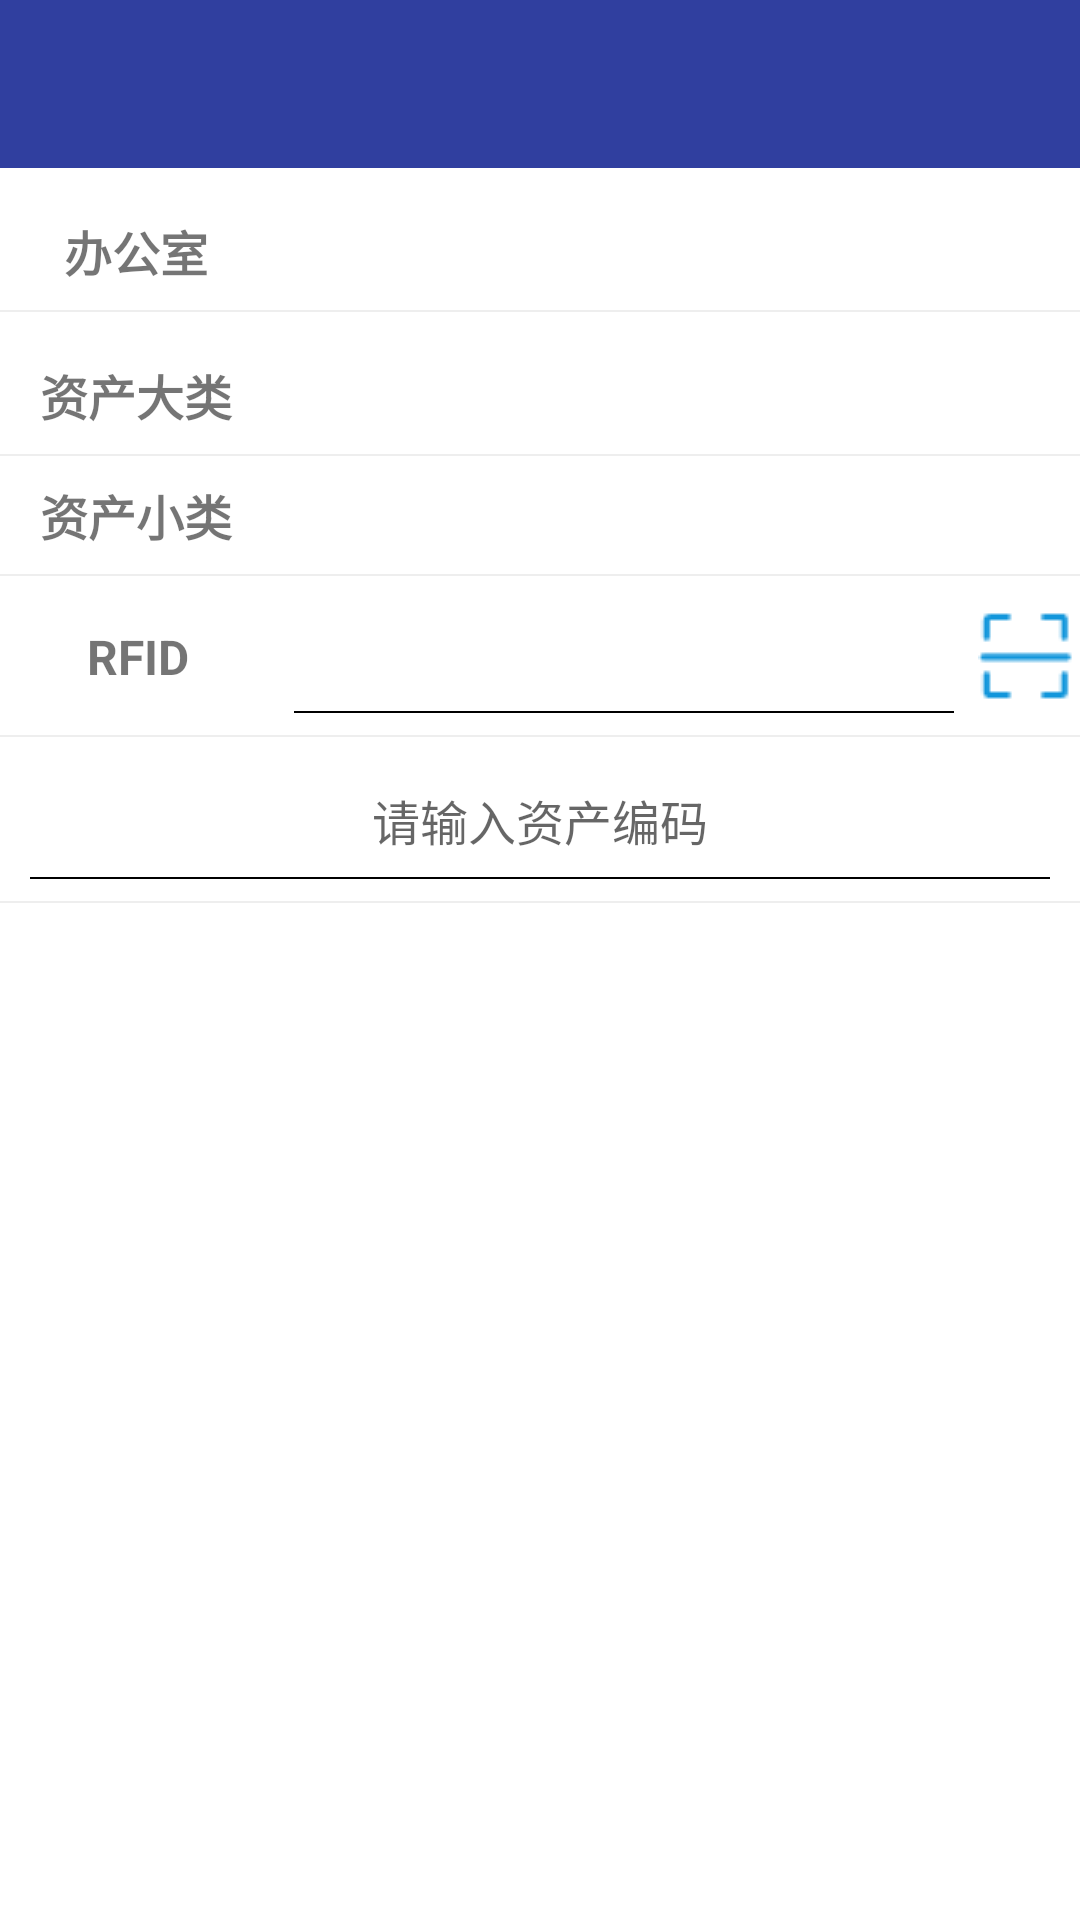

Point at icon controls on the screen. Image size 1080x1920, points as (x,y).
scan: (1025,656)
